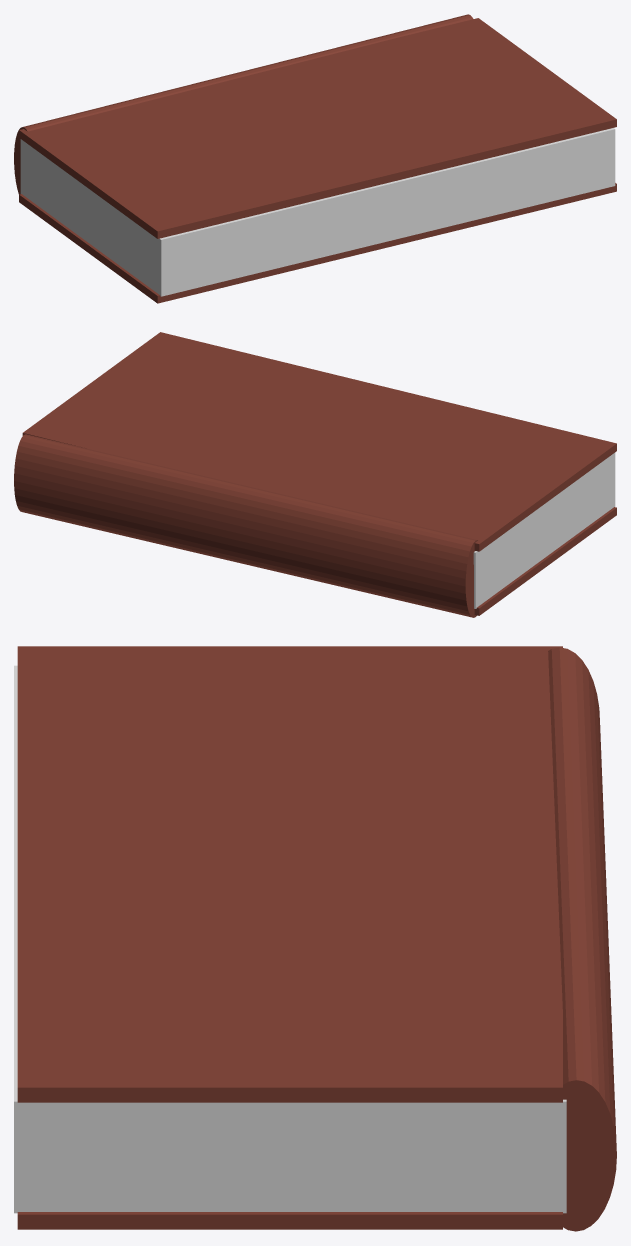
File: book_1.fbx
3 renders of one model, top to bottom at view 1: azimuth 30°, elevation 25°; view 2: azimuth 150°, elevation 25°; view 3: azimuth 270°, elevation 25°, orthographic. The views are drawn at different scales.
Parts seen in each view (by area): view 1: Cube.001, Pages, Cube.002, Cylinder; view 2: Cube.001, Cylinder, Pages, Cube.002; view 3: Cube.001, Pages, Cylinder, Cube.002.
Part boxes in pixels (<box>): Cube.001: <box>19,18,616,238</box>; Pages: <box>20,128,615,296</box>; Cube.002: <box>19,183,616,303</box>; Cylinder: <box>14,14,473,194</box>; Cube.001: <box>22,332,616,551</box>; Cylinder: <box>14,434,477,617</box>; Pages: <box>473,452,615,608</box>; Cube.002: <box>474,507,616,615</box>; Cube.001: <box>17,646,562,1102</box>; Pages: <box>14,665,566,1213</box>; Cylinder: <box>548,647,616,1231</box>; Cube.002: <box>17,1212,562,1229</box>.
Size of the model in its own units: 449 by 72.11 by 259.
